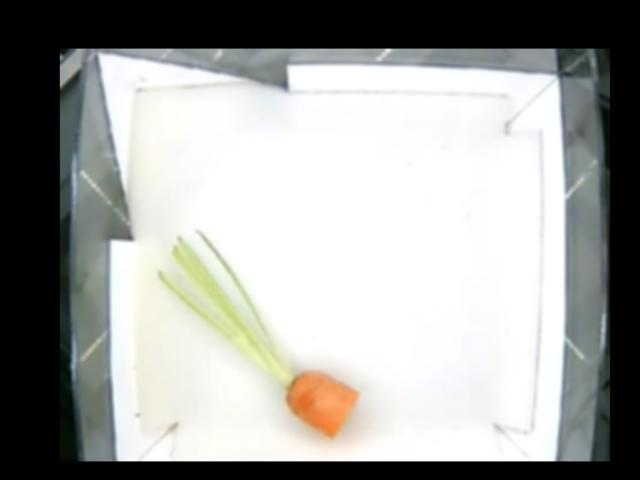Carrot: (251, 347, 359, 438)
